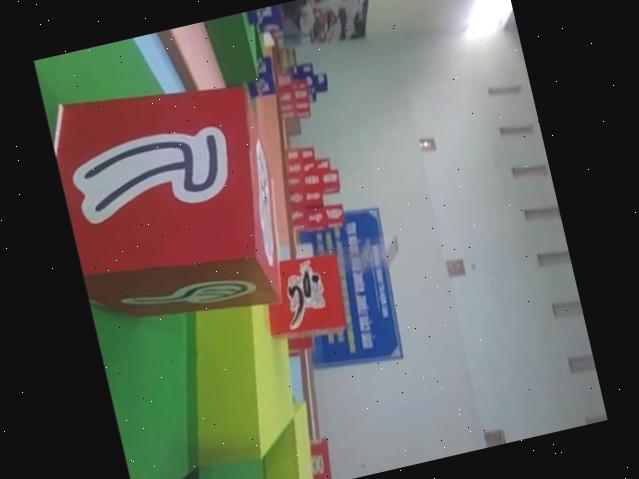R1: (247, 240, 355, 347)
R2 Fake: (42, 56, 304, 343)
